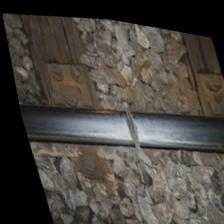person: (78, 73, 177, 174)
